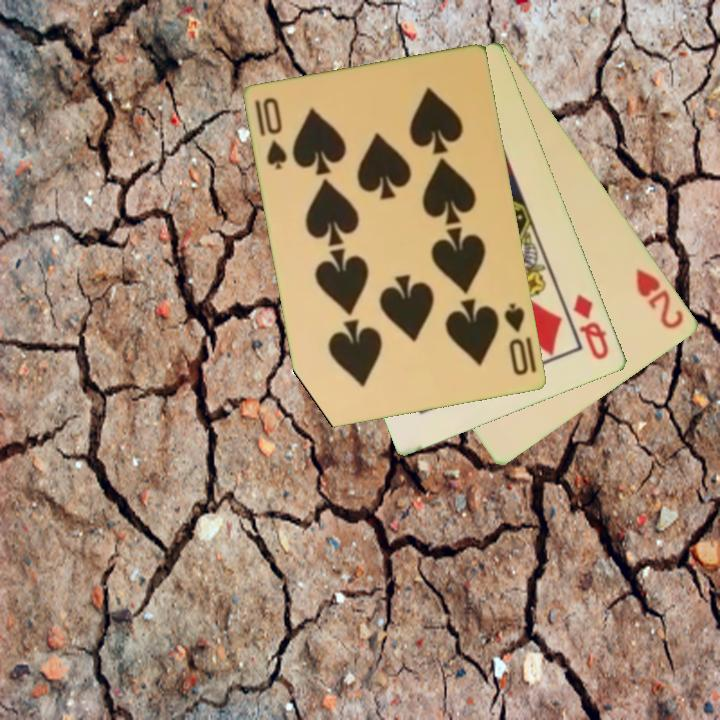10s: (251, 94, 291, 173), (501, 299, 532, 379)
2h: (632, 264, 688, 332)
Qd: (570, 290, 612, 363)
